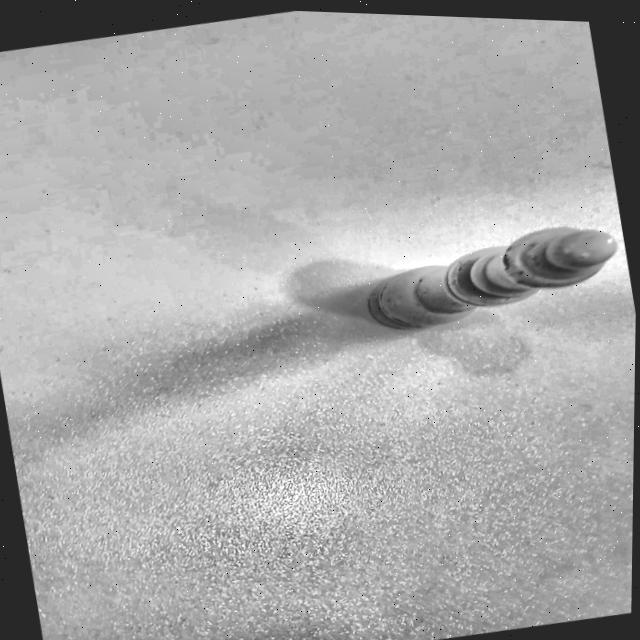white-queen: (287, 163, 638, 389)
